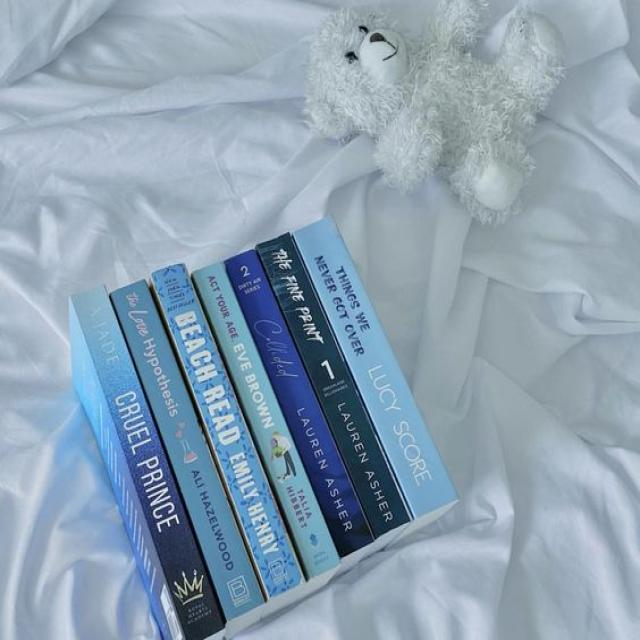book: (69, 280, 224, 640), (111, 279, 265, 622), (149, 260, 304, 599), (292, 214, 459, 518), (256, 232, 413, 538), (192, 260, 341, 581), (223, 247, 374, 558)
